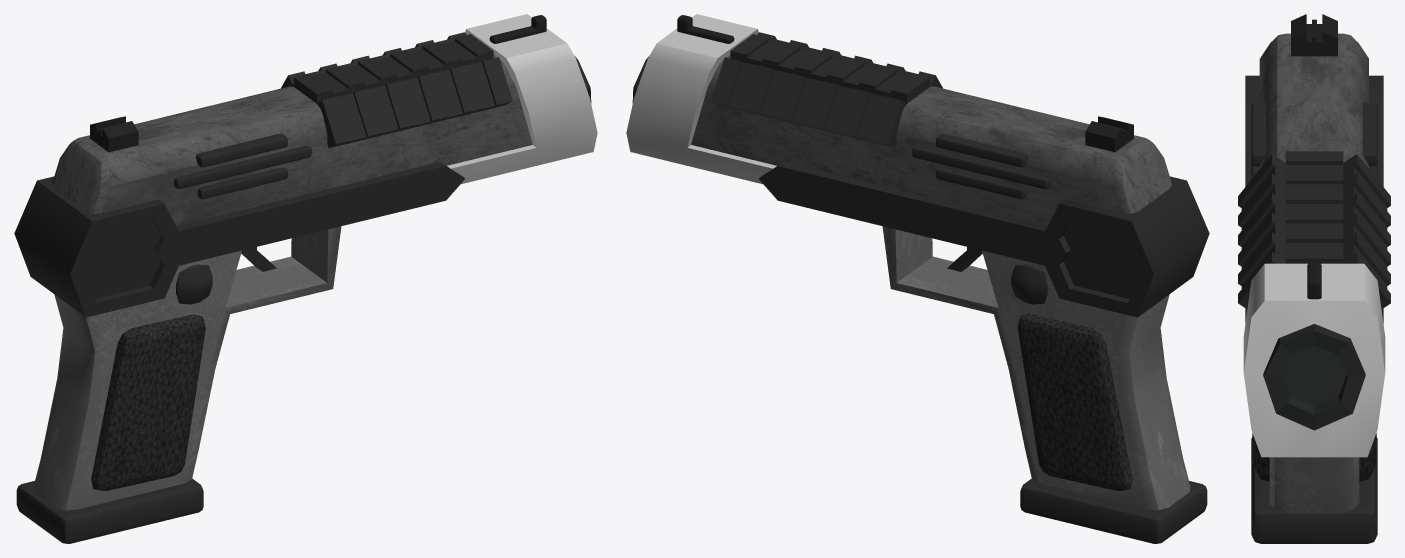
File: PistolFinal.fbx
3 views of the same model, side by side, from view 1: azimuth 30°, elevation 25°; view 2: azimuth 150°, elevation 25°; view 3: azimuth 270°, elevation 25° (orthographic). The views are drawn at different scales.
Parts seen in each view (by area): view 1: pCube2, pCube4, pCube1, pCube6, pCube3, pCube10, pCube5, pCube9, pCube13, pCube12, pCube8, pCube7 (+3 smaller); view 2: pCube2, pCube4, pCube1, pCube6, pCube3, pCube11, pCube5, pCube9, pCube13, pCube12, pCube8, pCube7 (+3 smaller); view 3: pCube3, pCube2, pCube9, pCube5, pCube11, pCube10, pCube1, pCube4, pCube12, pCube8, pCube6, pCube15.
Part boxes in pixels (<box>): pCube2: <box>52,55,532,225</box>; pCube4: <box>14,162,465,317</box>; pCube1: <box>33,226,341,510</box>; pCube6: <box>91,314,205,490</box>; pCube3: <box>447,14,597,184</box>; pCube10: <box>317,57,512,148</box>; pCube5: <box>16,478,203,543</box>; pCube9: <box>293,34,493,103</box>; pCube13: <box>174,146,311,188</box>; pCube12: <box>196,133,287,167</box>; pCube8: <box>90,116,138,152</box>; pCube7: <box>176,264,212,304</box>; pCube2: <box>691,55,1171,225</box>; pCube4: <box>758,162,1209,317</box>; pCube1: <box>882,226,1190,510</box>; pCube6: <box>1017,313,1132,490</box>; pCube3: <box>626,14,776,184</box>; pCube11: <box>711,57,906,148</box>; pCube5: <box>1020,478,1207,543</box>; pCube9: <box>730,34,930,103</box>; pCube13: <box>912,146,1049,188</box>; pCube12: <box>936,133,1027,167</box>; pCube8: <box>1085,116,1133,152</box>; pCube7: <box>1011,264,1047,304</box>; pCube3: <box>1243,263,1385,457</box>; pCube2: <box>1259,33,1368,168</box>; pCube9: <box>1285,151,1343,263</box>; pCube5: <box>1251,437,1377,543</box>; pCube11: <box>1343,154,1390,309</box>; pCube10: <box>1238,154,1285,308</box>; pCube1: <box>1269,457,1359,513</box>; pCube4: <box>1245,75,1383,323</box>; pCube12: <box>1251,102,1377,166</box>; pCube8: <box>1291,14,1337,56</box>; pCube6: <box>1252,433,1376,481</box>; pCube15: <box>1307,262,1321,299</box>.
Size of the model in its own units: 6.14 by 4.25 by 1.21.
